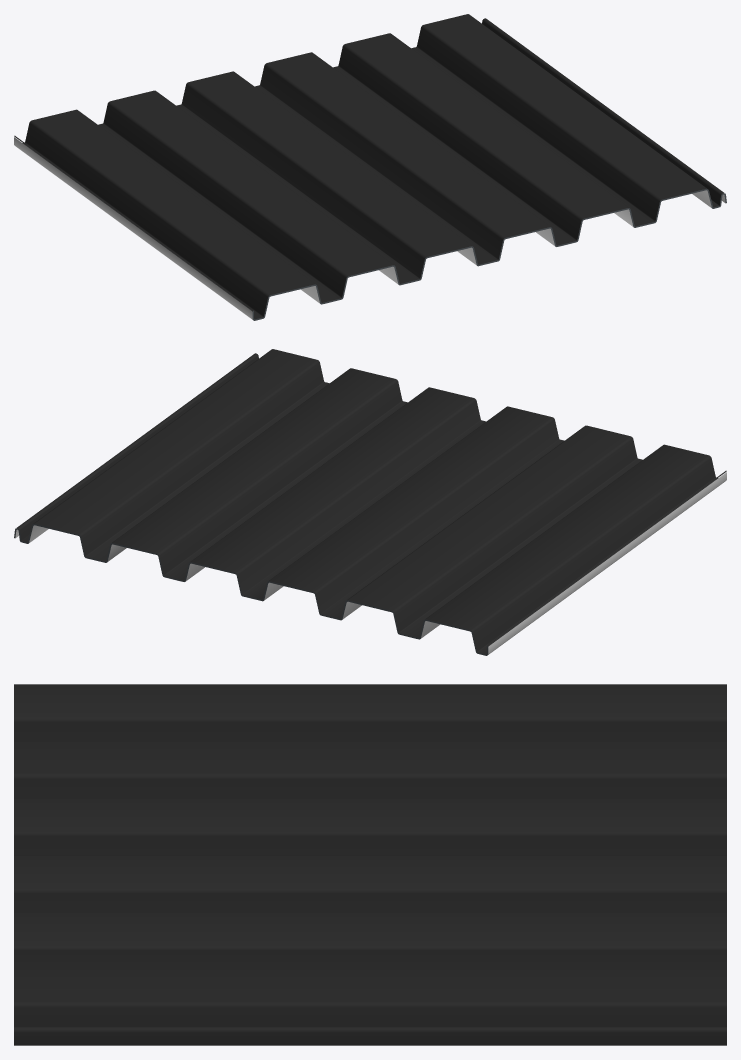
Rendered from B-Deck-RoofSmooth-Claude.glb.
3 views of the same model, one above another, from view 1: azimuth 30°, elevation 25°; view 2: azimuth 150°, elevation 25°; view 3: azimuth 270°, elevation 25° (orthographic). The views are drawn at different scales.
Visible parts, largest first — view 1: panel_top_skin, panel_bottom_skin, panel_cut_edges; view 2: panel_top_skin, panel_bottom_skin, panel_cut_edges; view 3: panel_top_skin.
Part boxes in pixels (bbox=[...]): panel_top_skin: bbox=[14, 14, 723, 319]; panel_bottom_skin: bbox=[14, 137, 725, 319]; panel_cut_edges: bbox=[18, 139, 726, 320]; panel_top_skin: bbox=[17, 349, 726, 654]; panel_bottom_skin: bbox=[15, 472, 726, 654]; panel_cut_edges: bbox=[14, 474, 722, 655]; panel_top_skin: bbox=[14, 684, 726, 1045].
Size of the model in its own units: 0.1916 by 0.00847 by 0.167.
Materials: 3 (1 with a texture image).
